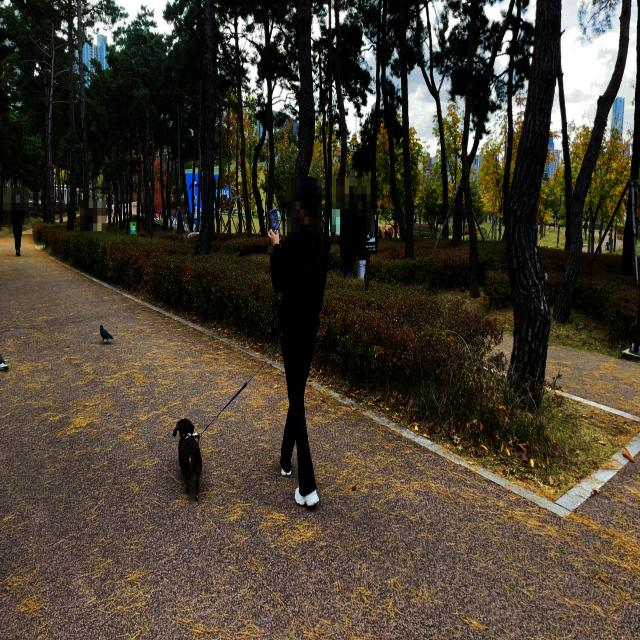Leashed_Dog: (172, 329, 293, 502)
